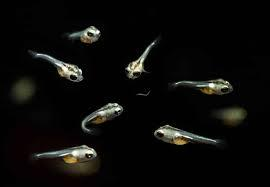fish: (150, 117, 228, 155), (167, 66, 241, 104), (25, 46, 85, 89), (120, 32, 168, 85), (28, 138, 102, 168), (73, 98, 130, 135), (57, 22, 116, 48), (52, 64, 88, 90), (115, 59, 154, 82), (80, 10, 105, 45)
